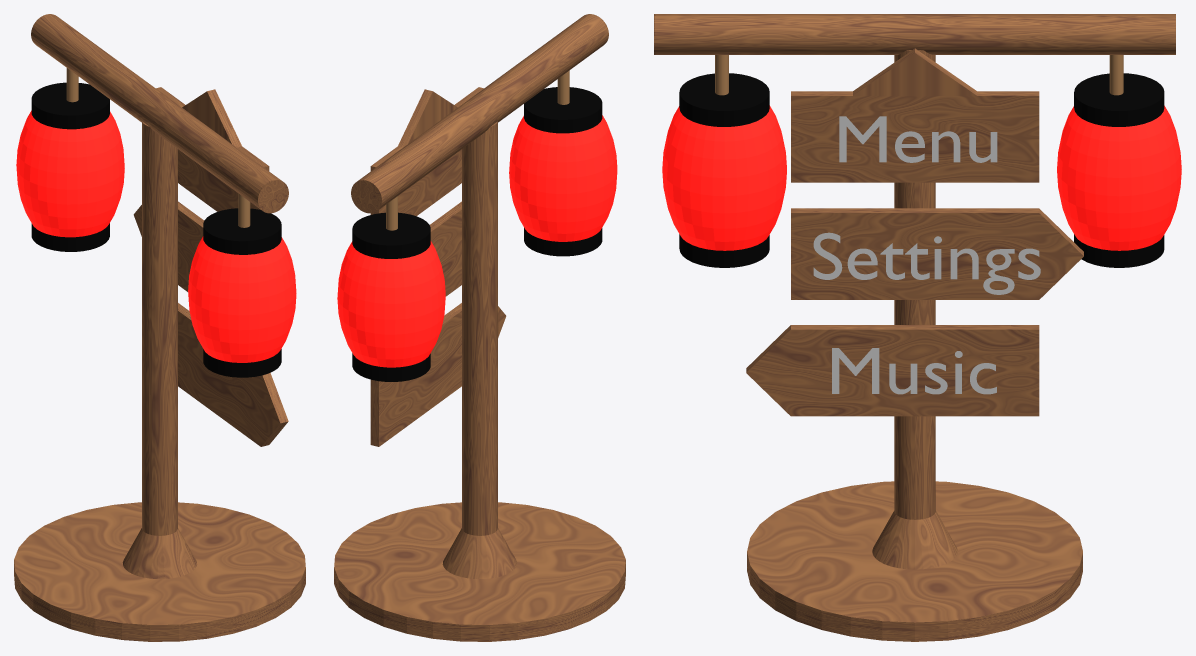
File: routes.glb
3 renders of one model, left to right at view 1: azimuth 30°, elevation 25°; view 2: azimuth 150°, elevation 25°; view 3: azimuth 270°, elevation 25°, orthographic. The views are drawn at different scales.
Visible parts, largest first — view 1: Cylinder, Cylinder.001, Cylinder.002, Sphere.001, Sphere, Cube.003, Cube.002, Cylinder.003, Cylinder.008, Cone, Cube.001, Cylinder.005 (+1 smaller); view 2: Cylinder, Cylinder.001, Cylinder.002, Sphere.001, Sphere, Cube.003, Cube.002, Cylinder.008, Cylinder.003, Cone, Cube.001, Cylinder.005 (+1 smaller); view 3: Cylinder, Cube.002, Cube.003, Cube.001, Cylinder.002, Sphere, Sphere.001, Cylinder.001, Text.001, Cylinder.008, Cylinder.003, Cone (+4 smaller).
Part boxes in pixels (left/top/right/bottom): Cylinder: left=14, top=502, right=305, bottom=641; Cylinder.001: left=142, top=121, right=177, bottom=535; Cylinder.002: left=31, top=14, right=288, bottom=213; Sphere.001: left=16, top=110, right=124, bottom=237; Sphere: left=188, top=236, right=296, bottom=362; Cube.003: left=178, top=303, right=288, bottom=446; Cube.002: left=156, top=87, right=269, bottom=211; Cylinder.003: left=203, top=208, right=281, bottom=254; Cylinder.008: left=31, top=82, right=109, bottom=129; Cone: left=122, top=528, right=197, bottom=578; Cube.001: left=133, top=201, right=204, bottom=291; Cylinder.005: left=203, top=349, right=281, bottom=377; Cylinder: left=334, top=502, right=625, bottom=641; Cylinder.001: left=462, top=121, right=497, bottom=535; Cylinder.002: left=351, top=14, right=608, bottom=213; Sphere.001: left=337, top=241, right=445, bottom=367; Sphere: left=509, top=115, right=617, bottom=241; Cube.003: left=370, top=303, right=506, bottom=446; Cube.002: left=370, top=87, right=483, bottom=216; Cylinder.008: left=352, top=212, right=430, bottom=258; Cylinder.003: left=524, top=87, right=602, bottom=133; Cone: left=442, top=528, right=517, bottom=578; Cube.001: left=429, top=201, right=461, bottom=296; Cylinder.005: left=524, top=227, right=602, bottom=256; Cylinder: left=747, top=481, right=1082, bottom=641; Cube.002: left=791, top=48, right=1039, bottom=182; Cube.003: left=746, top=325, right=1039, bottom=416; Cube.001: left=791, top=208, right=1083, bottom=299; Cylinder.002: left=654, top=14, right=1175, bottom=54; Sphere: left=662, top=105, right=786, bottom=250; Sphere.001: left=1057, top=105, right=1181, bottom=250; Cylinder.001: left=894, top=50, right=935, bottom=519; Text.001: left=813, top=232, right=1040, bottom=294; Cylinder.008: left=1074, top=73, right=1164, bottom=126; Cylinder.003: left=679, top=73, right=769, bottom=126; Cone: left=872, top=510, right=957, bottom=569.
Bounding box in the file's own units: 2.27 × 4.14 × 3.56.
9 materials, 2 textured.
